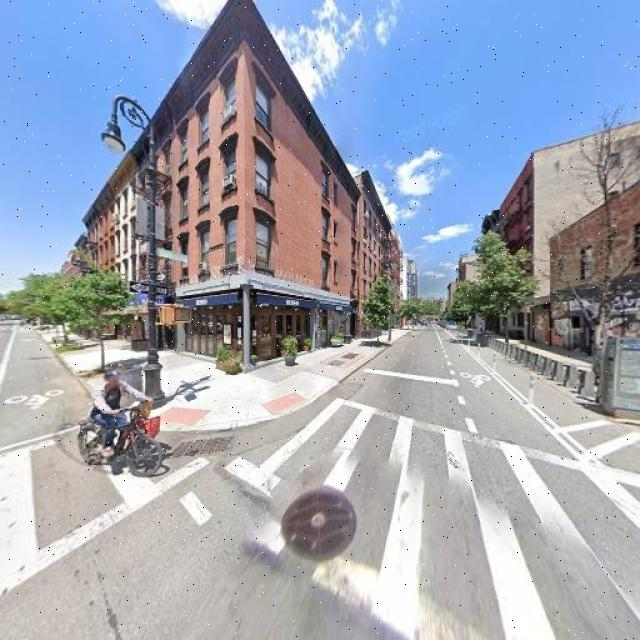Building: (117, 1, 364, 367), (557, 187, 640, 374)
